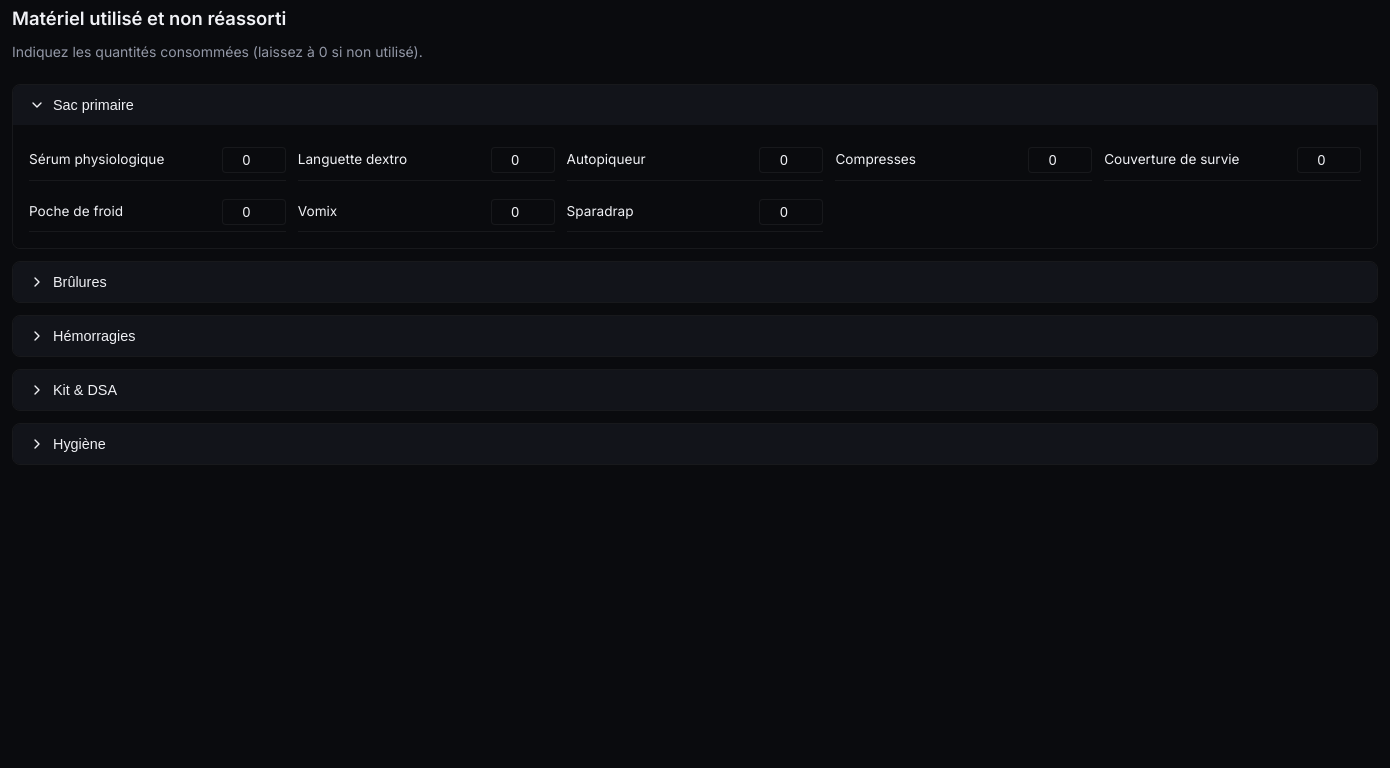
Scenario: Step3Supplies › déplie une catégorie au clic sur son en-tête
This screenshot has width=1390, height=768.
Click the button "Brûlures" at (80, 282), box [13, 262, 1377, 302]
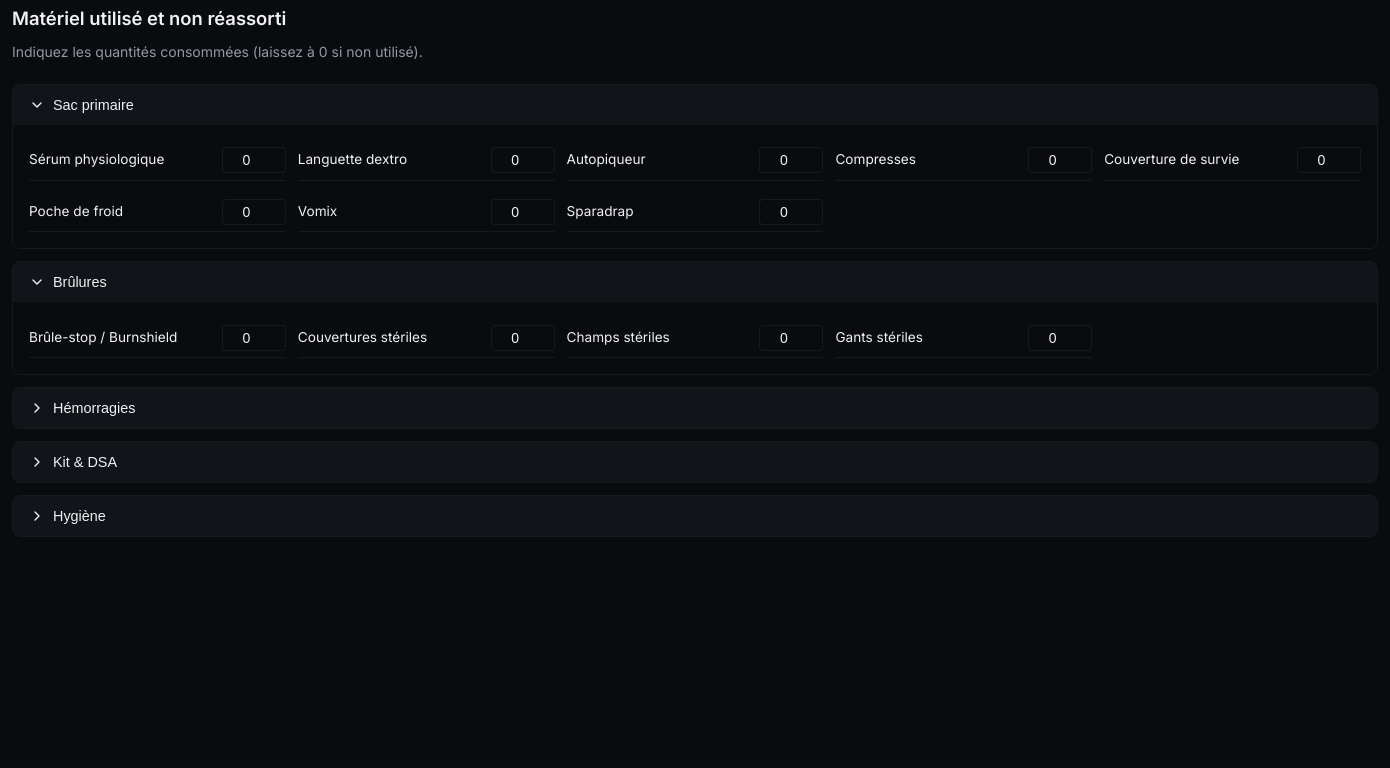
Expected: the text "Brûle-stop / Burnshield" is shown, [29, 329, 177, 345]
